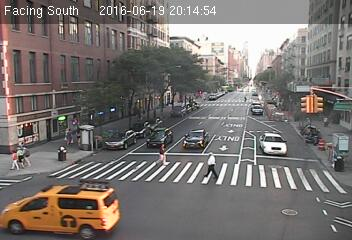neg: (295, 73, 313, 97), (46, 35, 64, 59), (316, 136, 334, 159), (160, 193, 177, 215), (71, 166, 87, 187), (242, 102, 258, 123), (108, 36, 123, 56), (158, 37, 172, 56), (204, 33, 218, 51), (269, 134, 282, 151), (88, 62, 101, 78), (173, 68, 185, 83), (241, 52, 252, 68), (132, 71, 143, 86), (265, 42, 276, 56), (194, 107, 204, 122), (25, 12, 33, 22), (260, 76, 267, 87), (76, 9, 83, 19), (106, 186, 113, 195), (152, 8, 158, 16), (131, 6, 137, 14), (51, 8, 57, 16), (105, 9, 111, 16), (300, 58, 305, 65), (235, 14, 240, 21), (315, 43, 320, 49), (183, 8, 188, 14), (255, 14, 258, 19), (295, 12, 298, 16), (319, 14, 322, 18), (278, 12, 281, 16), (211, 12, 214, 16)
pos: (200, 149, 222, 178), (153, 142, 173, 168), (4, 149, 21, 171), (61, 124, 77, 145), (242, 95, 248, 102)
